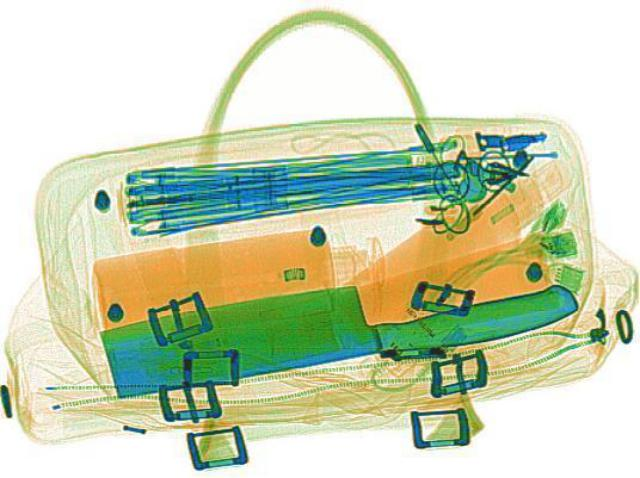Knife: (88, 241, 582, 406)
